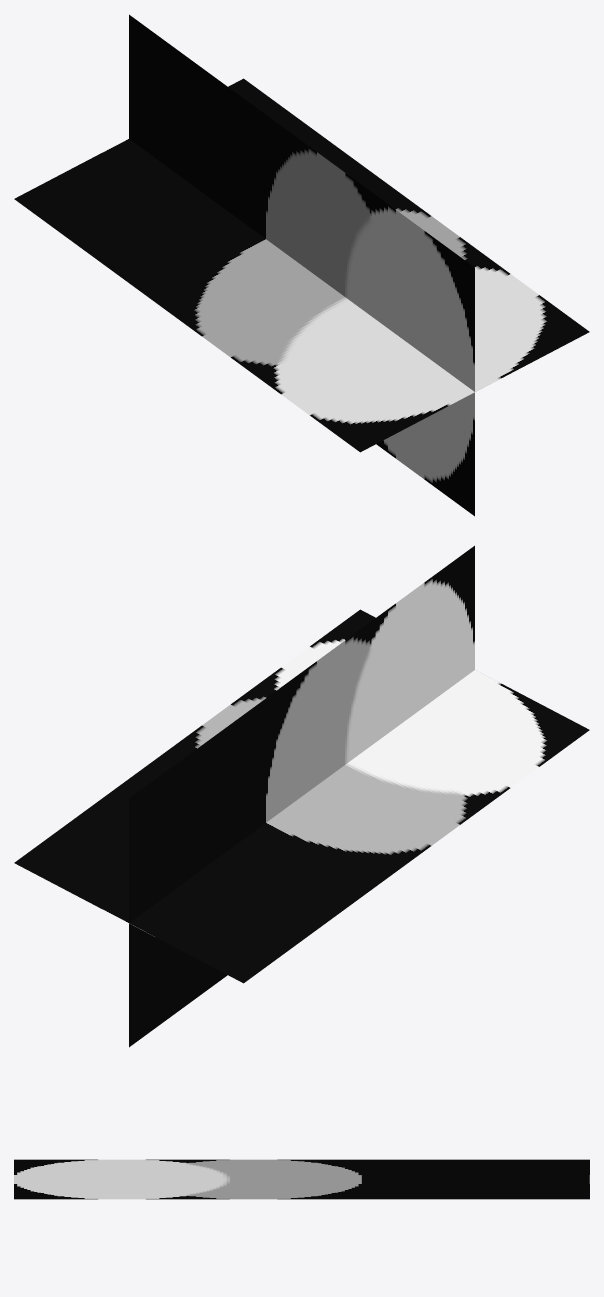
The model's file is EgoOrbEffect.glb.
The picture shows the model from 3 angles, top to bottom: view 1: azimuth 30°, elevation 25°; view 2: azimuth 150°, elevation 25°; view 3: azimuth 270°, elevation 25°; orthographic projection. The views are drawn at different scales.
Parts seen in each view (by area): view 1: Quad, Quad.001; view 2: Quad, Quad.001; view 3: Quad.
Part boxes in pixels (box(x1,y1,x2,y2)): Quad: box(14, 78, 589, 452); Quad.001: box(129, 14, 474, 516); Quad: box(14, 609, 589, 983); Quad.001: box(129, 545, 474, 1047); Quad: box(14, 1159, 589, 1199).
Bounding box in the file's own units: 0.2735 × 0.2832 × 0.7143.
1 material, 1 textured.
